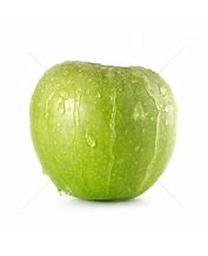apple: (32, 60, 177, 202)
